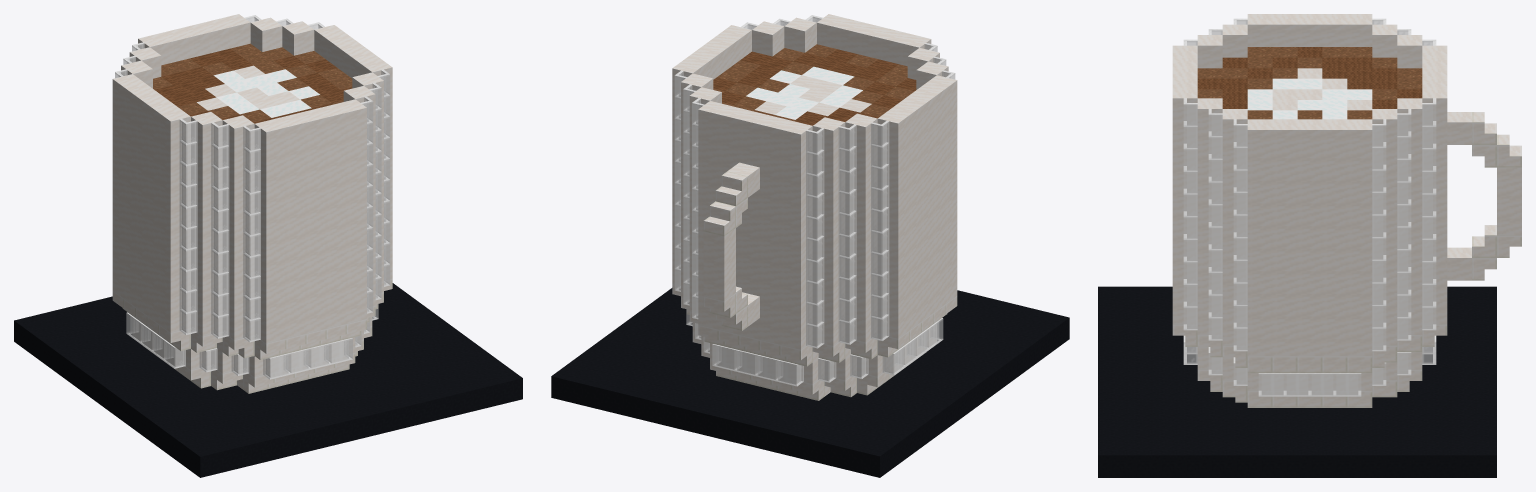
The picture shows the model from 3 angles, left to right: view 1: azimuth 30°, elevation 25°; view 2: azimuth 150°, elevation 25°; view 3: azimuth 270°, elevation 25°; orthographic projection. The views are drawn at different scales.
Parts seen in each view (by area): view 1: ZerpCraft Founders NFT #012; view 2: ZerpCraft Founders NFT #012; view 3: ZerpCraft Founders NFT #012.
Boxes of the visible parts, x1,y1,x2,y2 form: ZerpCraft Founders NFT #012: (14,14,522,477); ZerpCraft Founders NFT #012: (551,14,1069,477); ZerpCraft Founders NFT #012: (1098,14,1521,477).
Bounding box in the file's own units: 16 × 14 × 17.
9 materials, 9 textured.
